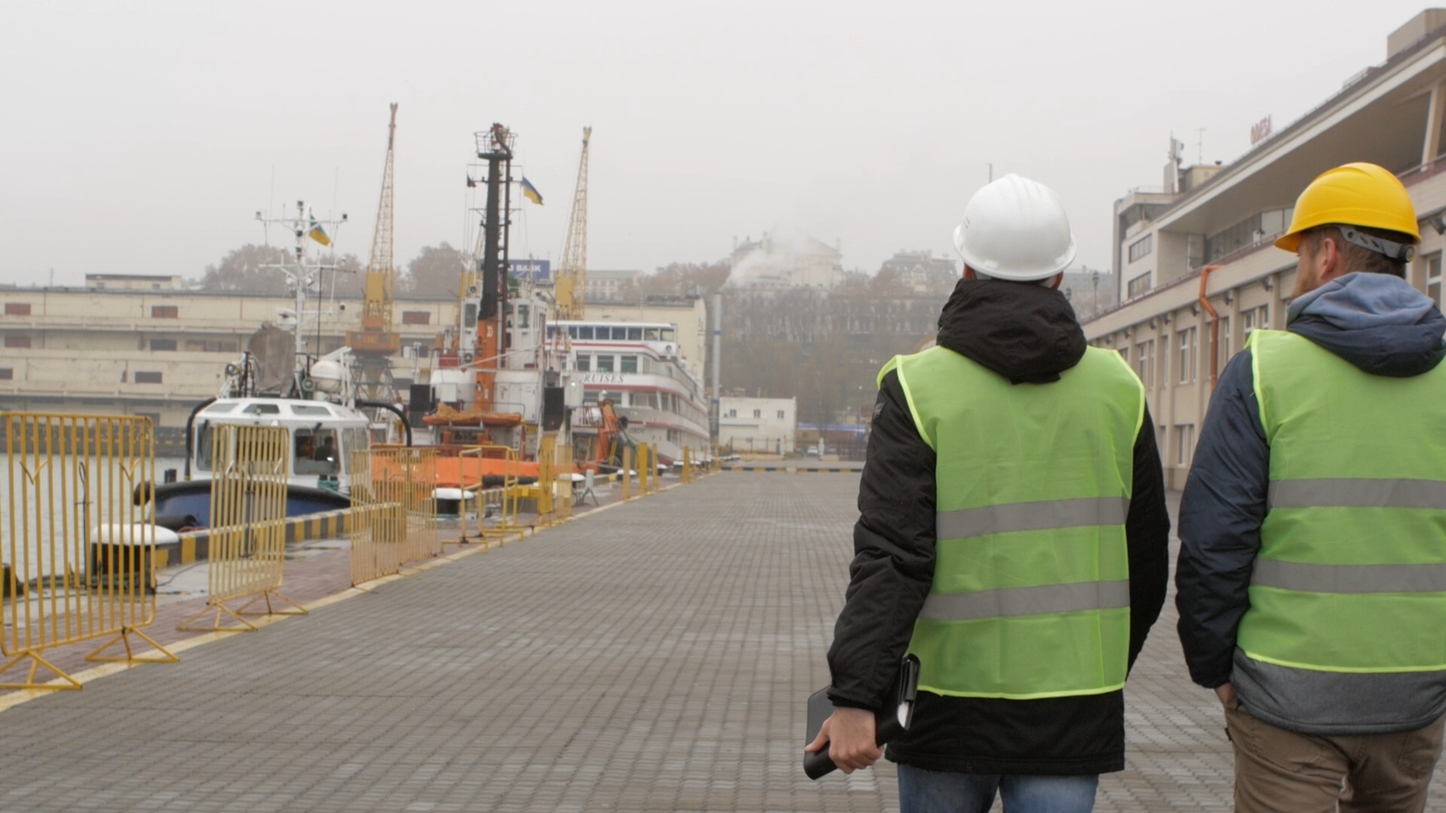safety_helmet: (1273, 159, 1422, 259), (951, 171, 1078, 283)
